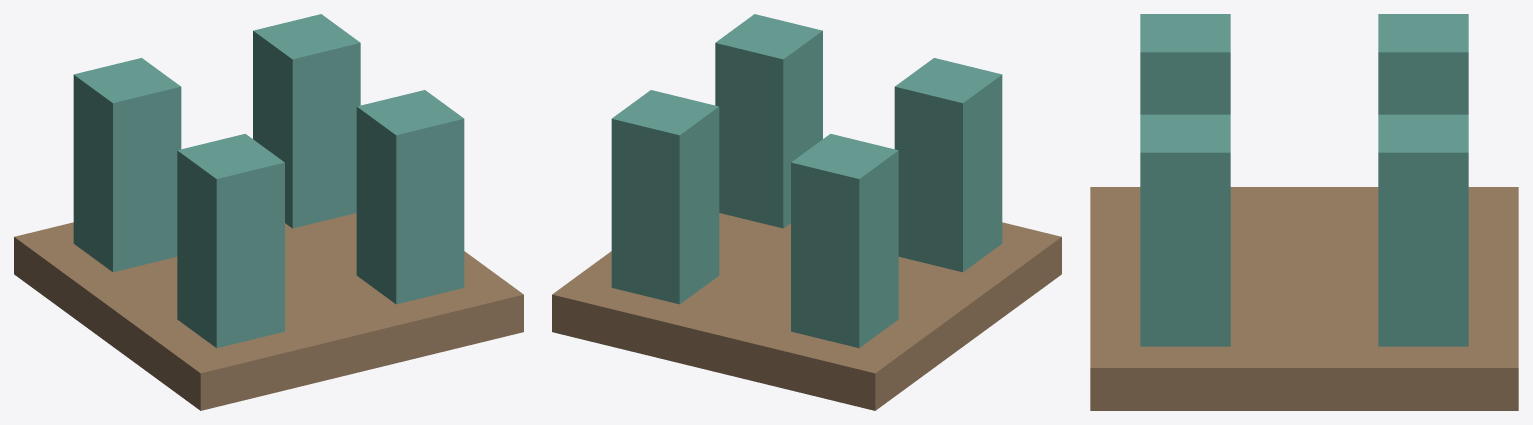
The model's file is Prop_DS_Crop_Kelpweed_S3_V0.glb.
The picture shows the model from 3 angles, left to right: view 1: azimuth 30°, elevation 25°; view 2: azimuth 150°, elevation 25°; view 3: azimuth 270°, elevation 25°; orthographic projection. The views are drawn at different scales.
Parts seen in each view (by area): view 1: Prop_DS_Crop_Kelpweed_S3_V0; view 2: Prop_DS_Crop_Kelpweed_S3_V0; view 3: Prop_DS_Crop_Kelpweed_S3_V0.
Part boxes in pixels (left/top/right/bottom): Prop_DS_Crop_Kelpweed_S3_V0: left=14, top=14, right=523, bottom=410; Prop_DS_Crop_Kelpweed_S3_V0: left=552, top=14, right=1061, bottom=410; Prop_DS_Crop_Kelpweed_S3_V0: left=1090, top=14, right=1518, bottom=410.
Size of the model in its own units: 0.9 by 0.55 by 0.9.
